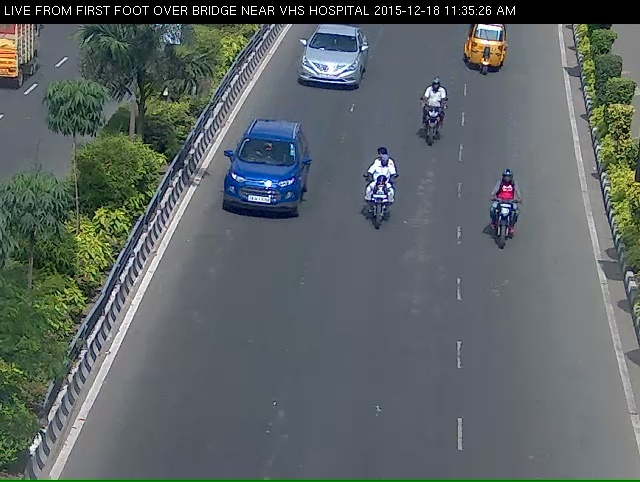Auto: (464, 22, 513, 86)
Car: (218, 128, 301, 239), (297, 37, 369, 104)
Person: (487, 187, 526, 270), (359, 159, 397, 242), (415, 92, 454, 168)
